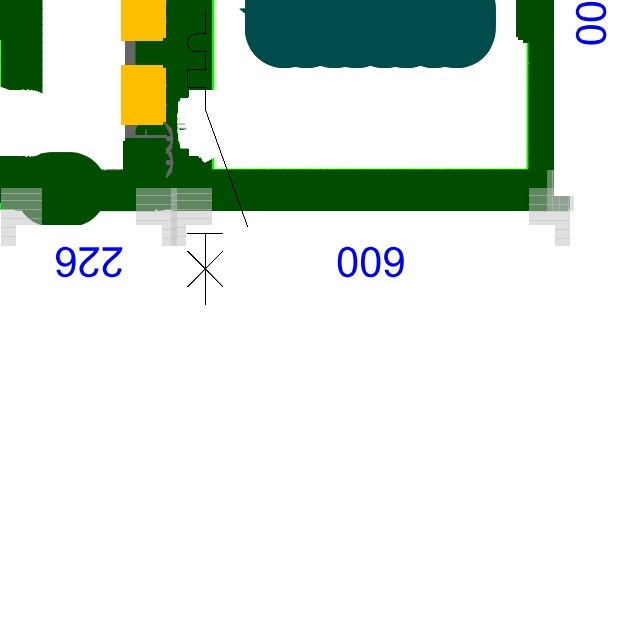interruptor_termomagnetico: (180, 4, 255, 312)
